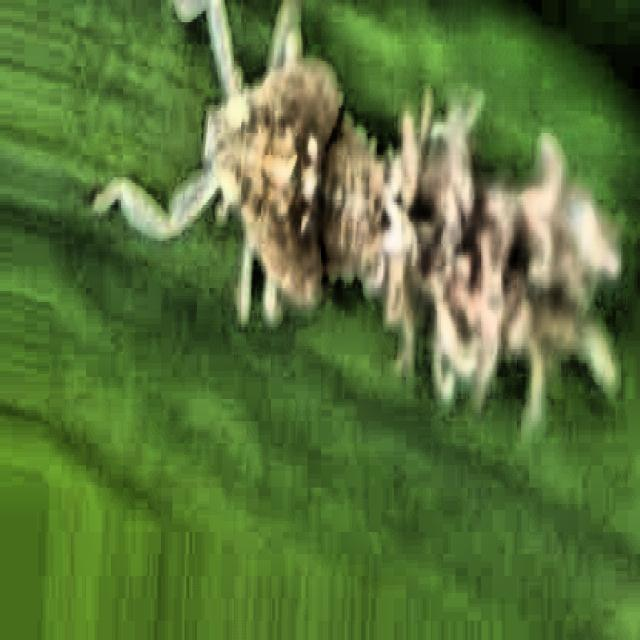Pyrilla-perpusilla: (106, 0, 614, 354)
